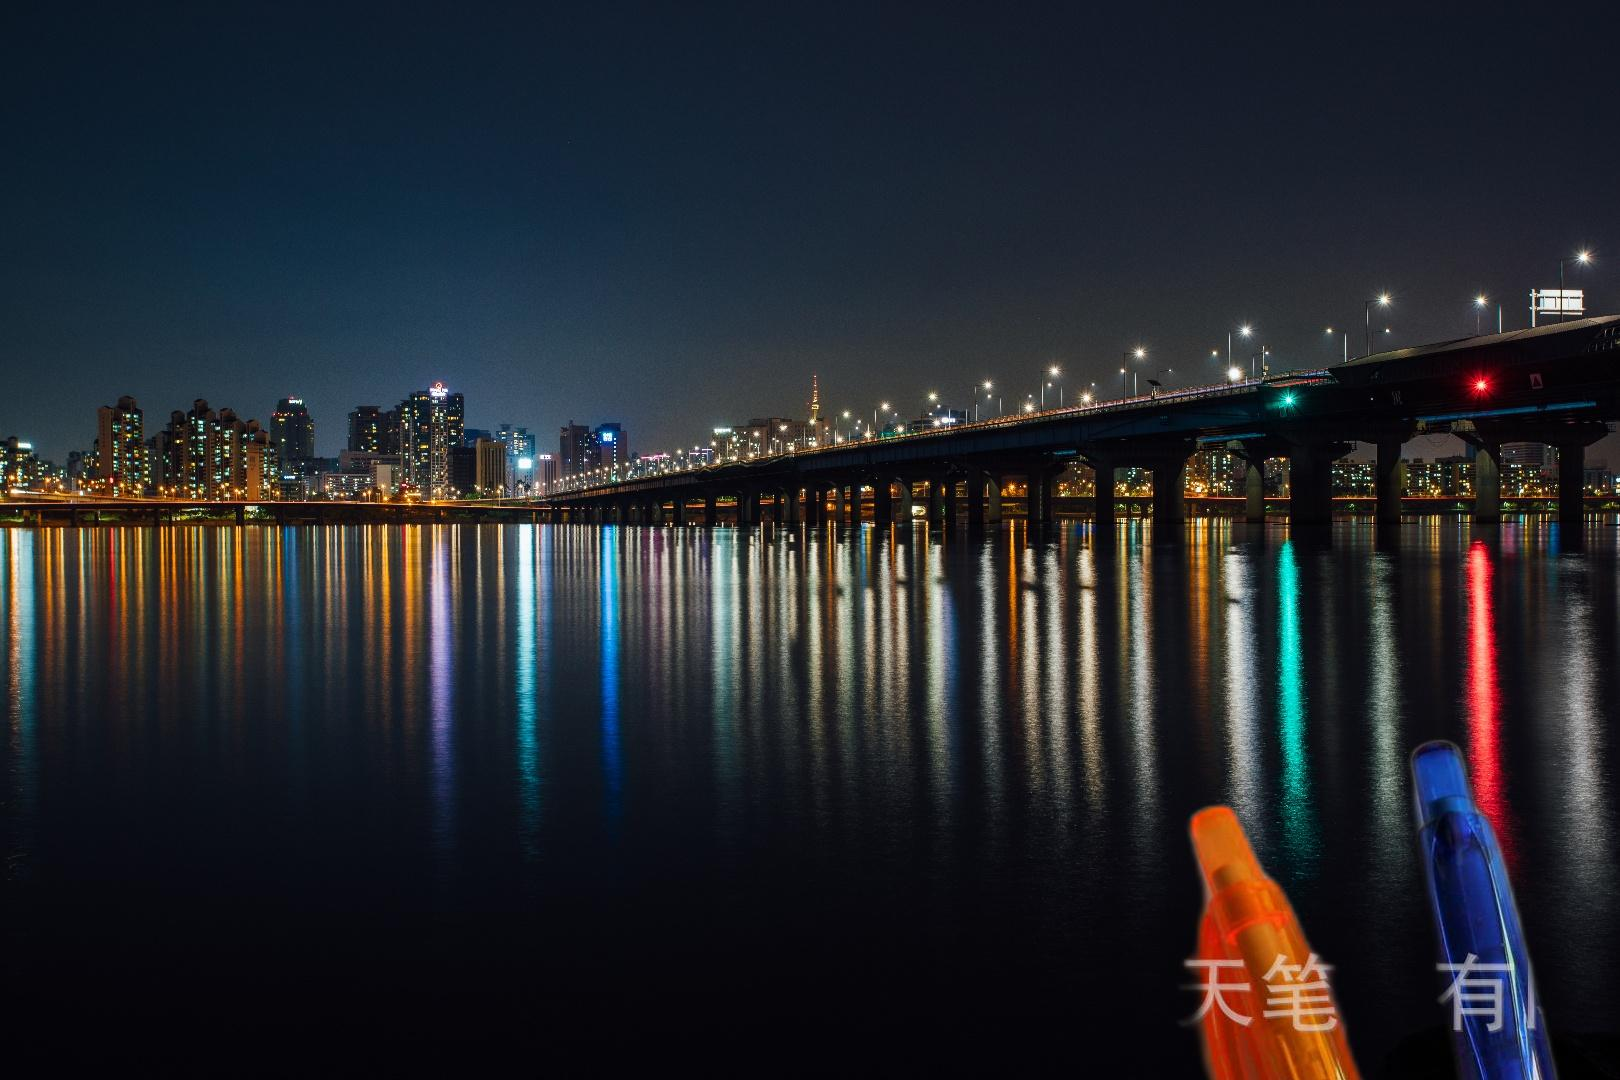penholder: (1131, 714, 1620, 1080)
